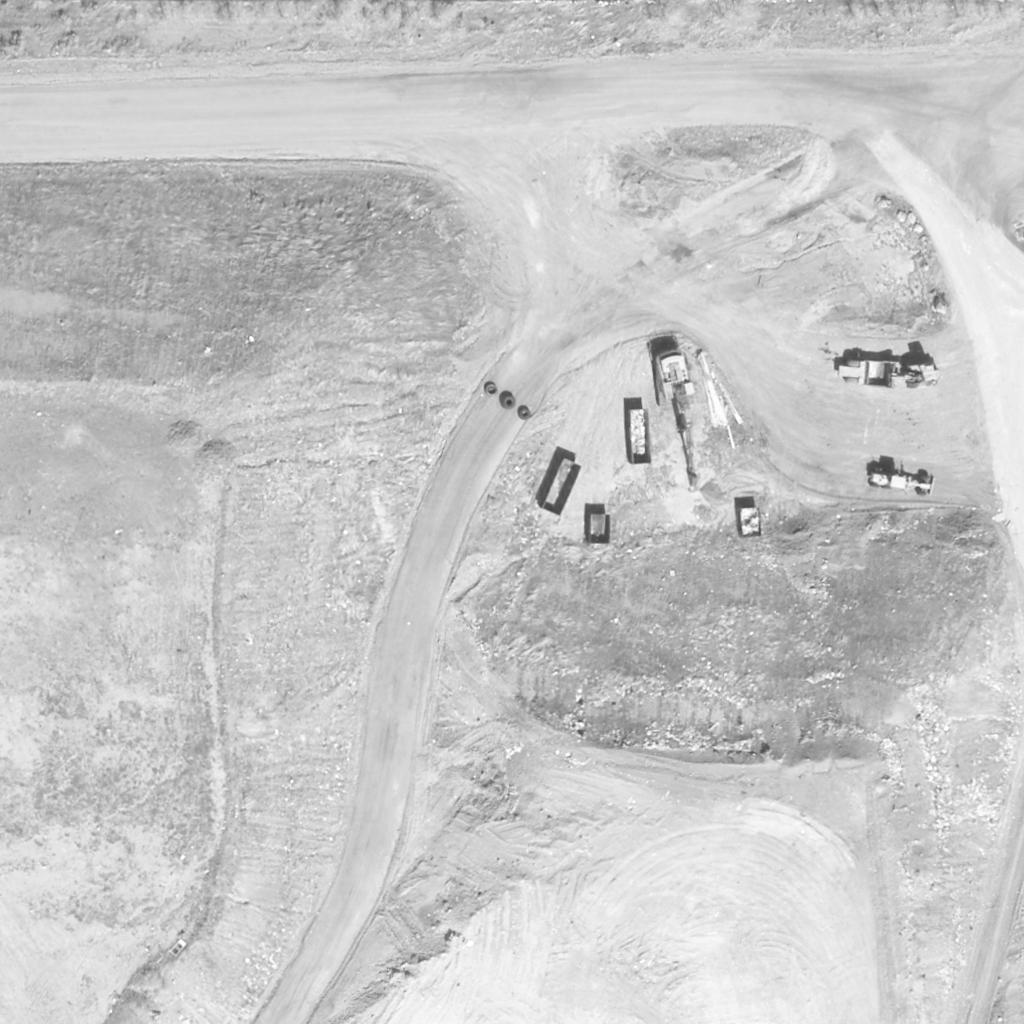vehicle: (652, 349, 712, 489), (838, 357, 944, 391), (866, 462, 936, 500)
